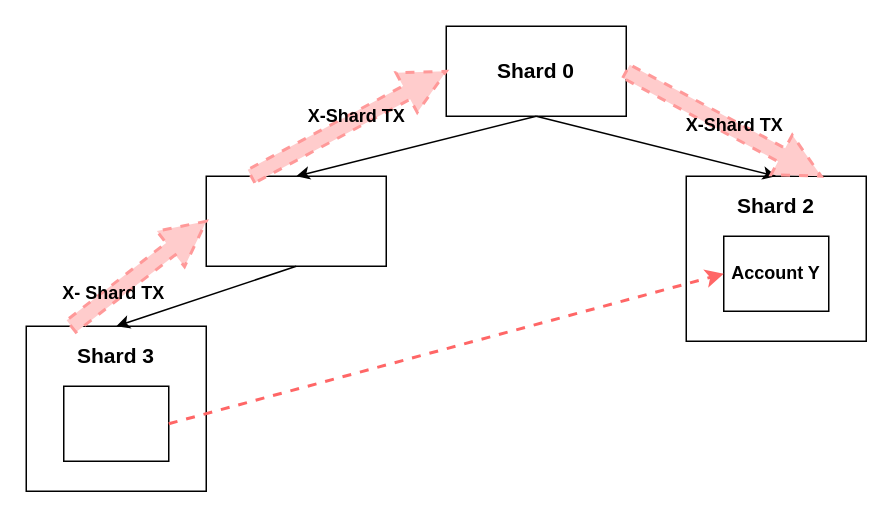
This 893x518 diagram has some shape labels left out. Each missing label, with the centre of its shape:
Account X: pixel 115 423
Shard 1: pixel 295 220
